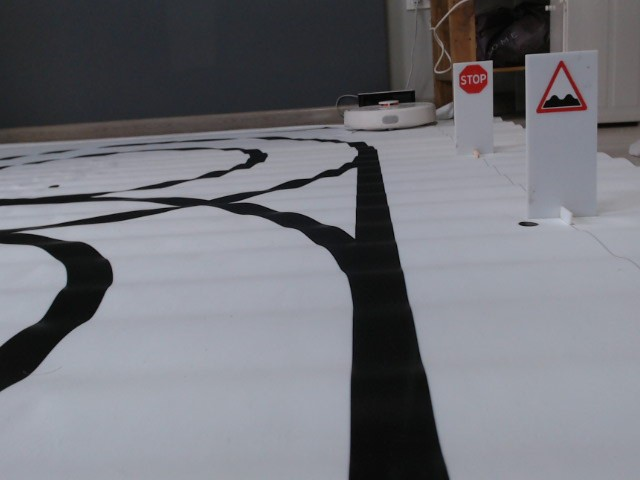Nerov: (534, 59, 590, 113)
